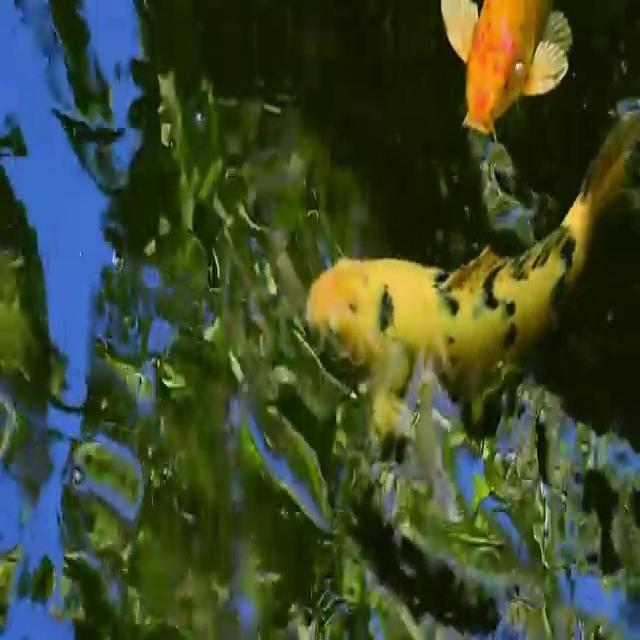fish: (304, 139, 640, 388), (428, 2, 587, 144)
